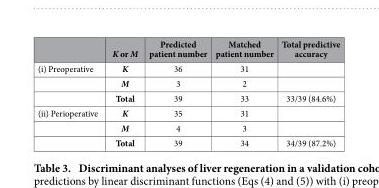table: (36, 37, 339, 148)
table column: (36, 37, 104, 148), (142, 37, 210, 148), (210, 37, 276, 148), (276, 37, 339, 148), (104, 37, 142, 148)
table column header: (36, 37, 339, 60)
table row: (36, 37, 339, 60), (36, 60, 339, 75), (36, 75, 339, 90), (36, 90, 339, 105), (36, 119, 339, 134), (36, 105, 339, 119), (36, 134, 339, 148)
table spanning cell: (36, 60, 104, 105), (36, 105, 104, 148)
